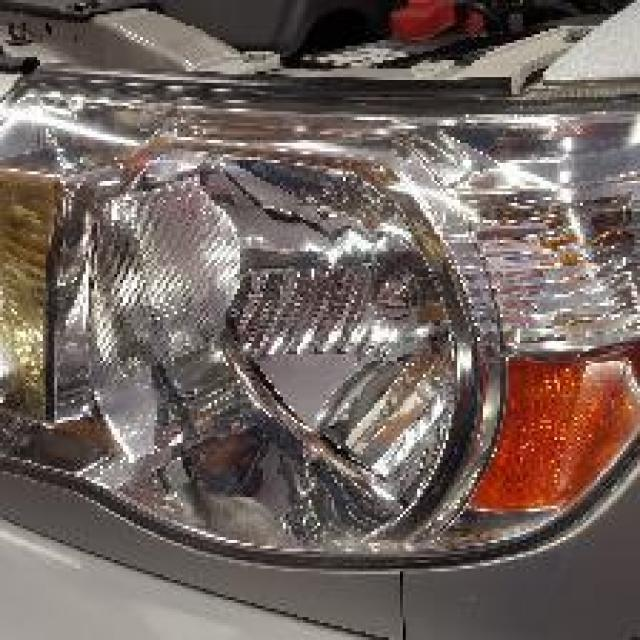damaged: (39, 103, 494, 563)
